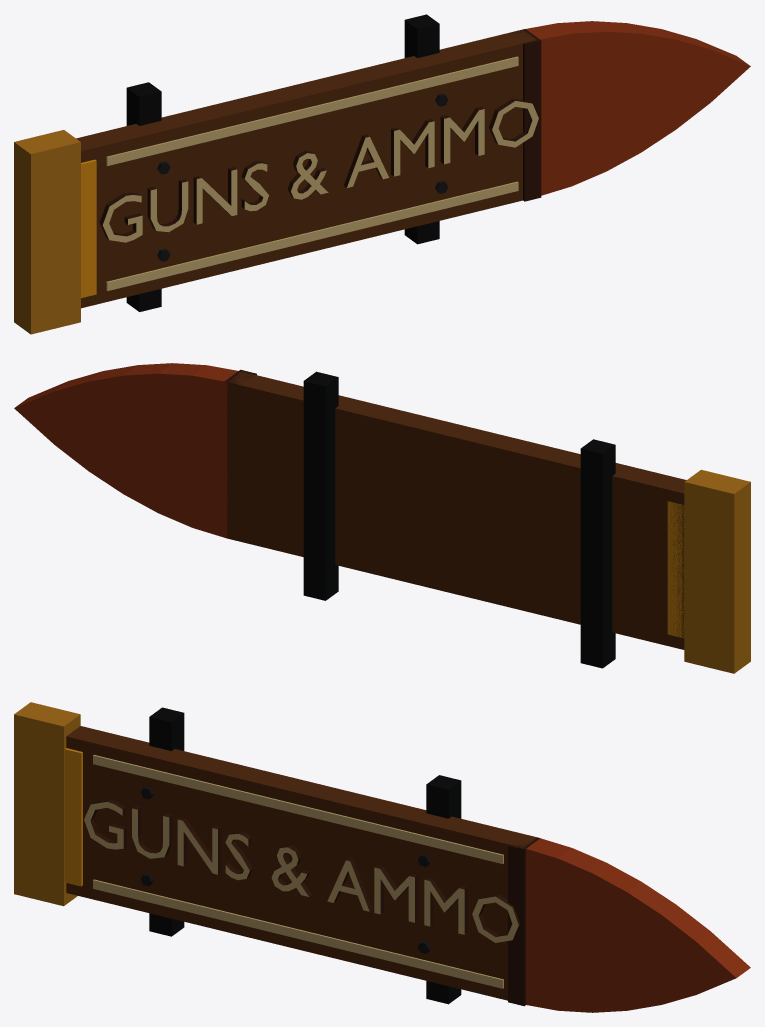
File: SM_Shop_Sign_GunsAmmo.glb
3 views of the same model, one above another, from view 1: azimuth 30°, elevation 25°; view 2: azimuth 150°, elevation 25°; view 3: azimuth 330°, elevation 25° (orthographic).
Visible parts, largest first — view 1: SM_Shop_Sign_GunsAmmo; view 2: SM_Shop_Sign_GunsAmmo; view 3: SM_Shop_Sign_GunsAmmo.
Part boxes in pixels (left/top/right/bottom): SM_Shop_Sign_GunsAmmo: left=14, top=14, right=750, bottom=334; SM_Shop_Sign_GunsAmmo: left=14, top=363, right=750, bottom=673; SM_Shop_Sign_GunsAmmo: left=14, top=702, right=750, bottom=1012.
Bounding box in the file's own units: 2.6 × 0.74 × 0.17.
Materials: 1 (1 with a texture image).
